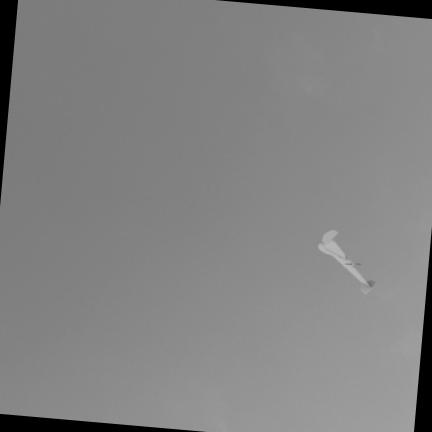Shahed: (319, 230, 376, 292)
